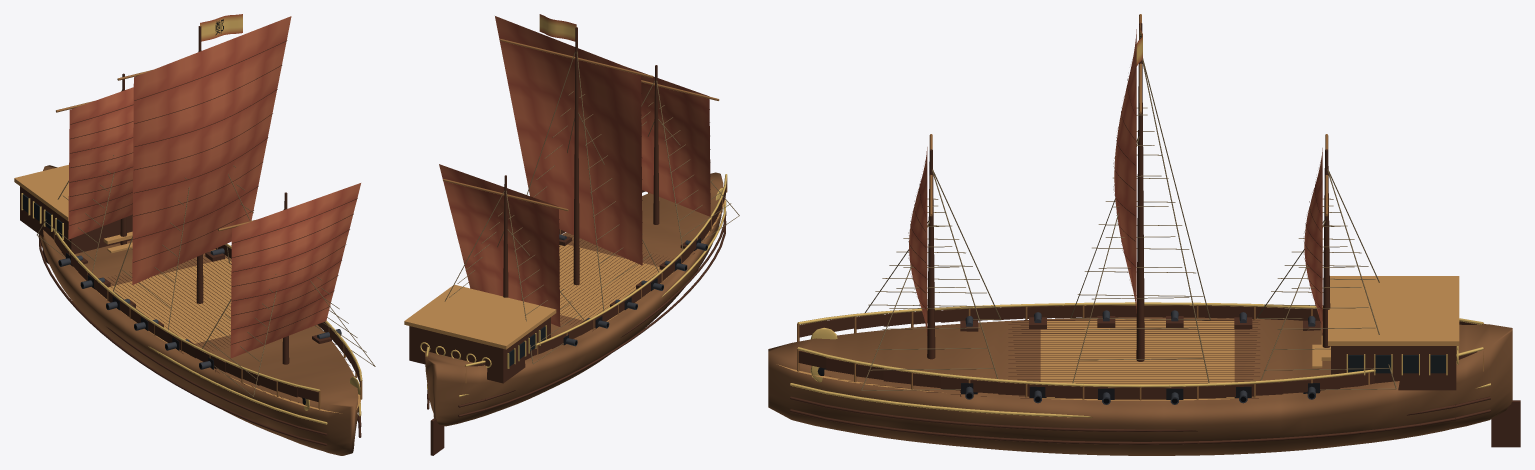
Rendered from fuchuan-lod0.glb.
3 views of the same model, side by side, from view 1: azimuth 30°, elevation 25°; view 2: azimuth 150°, elevation 25°; view 3: azimuth 270°, elevation 25° (orthographic). The views are drawn at different scales.
Visible parts, largest first — view 1: sail_02, hull, sail_03, sail_01, deck, fittings_wood, fittings_deck, fittings_trim, sterncastle_body, flag_01, fittings_iron, mast_timber_02; view 2: sail_02, hull, sail_01, sail_03, fittings_deck, deck, fittings_trim, fittings_wood, sterncastle_body, mast_timber_02, mast_timber_03, flag_01 (+5 smaller); view 3: hull, fittings_wood, fittings_deck, fittings_trim, deck, sail_02, sterncastle_body, sail_03, fittings_iron, sail_01, mast_timber_02, mast_timber_03 (+2 smaller).
Part boxes in pixels (<box>): sail_02: <box>132,16,291,284</box>; hull: <box>40,165,358,455</box>; sail_03: <box>230,183,360,358</box>; sail_01: <box>68,87,133,239</box>; deck: <box>96,258,360,413</box>; fittings_wood: <box>38,230,362,446</box>; fittings_deck: <box>14,165,355,402</box>; fittings_trim: <box>21,51,375,424</box>; sterncastle_body: <box>20,186,132,253</box>; flag_01: <box>200,14,242,41</box>; fittings_iron: <box>22,194,305,404</box>; mast_timber_02: <box>196,26,203,303</box>; sail_02: <box>495,16,642,265</box>; hull: <box>425,172,723,426</box>; sail_01: <box>439,164,560,326</box>; sail_03: <box>629,68,710,216</box>; fittings_deck: <box>404,214,720,349</box>; deck: <box>559,198,725,321</box>; fittings_trim: <box>420,51,739,396</box>; fittings_wood: <box>426,178,727,417</box>; sterncastle_body: <box>409,317,550,383</box>; mast_timber_02: <box>573,27,579,285</box>; mast_timber_03: <box>653,65,659,224</box>; flag_01: <box>539,14,576,41</box>; hull: <box>768,317,1512,455</box>; fittings_wood: <box>790,305,1490,444</box>; fittings_deck: <box>829,276,1459,398</box>; fittings_trim: <box>790,58,1490,417</box>; deck: <box>778,319,1234,400</box>; sail_02: <box>1113,29,1136,313</box>; sterncastle_body: <box>1331,346,1456,390</box>; sail_03: <box>908,147,927,335</box>; fittings_iron: <box>817,355,1445,399</box>; sail_01: <box>1303,148,1322,334</box>; mast_timber_02: <box>1136,23,1144,361</box>; mast_timber_03: <box>927,149,935,359</box>.
Bounding box in the file's own units: 10.4 × 20.27 × 32.34.
